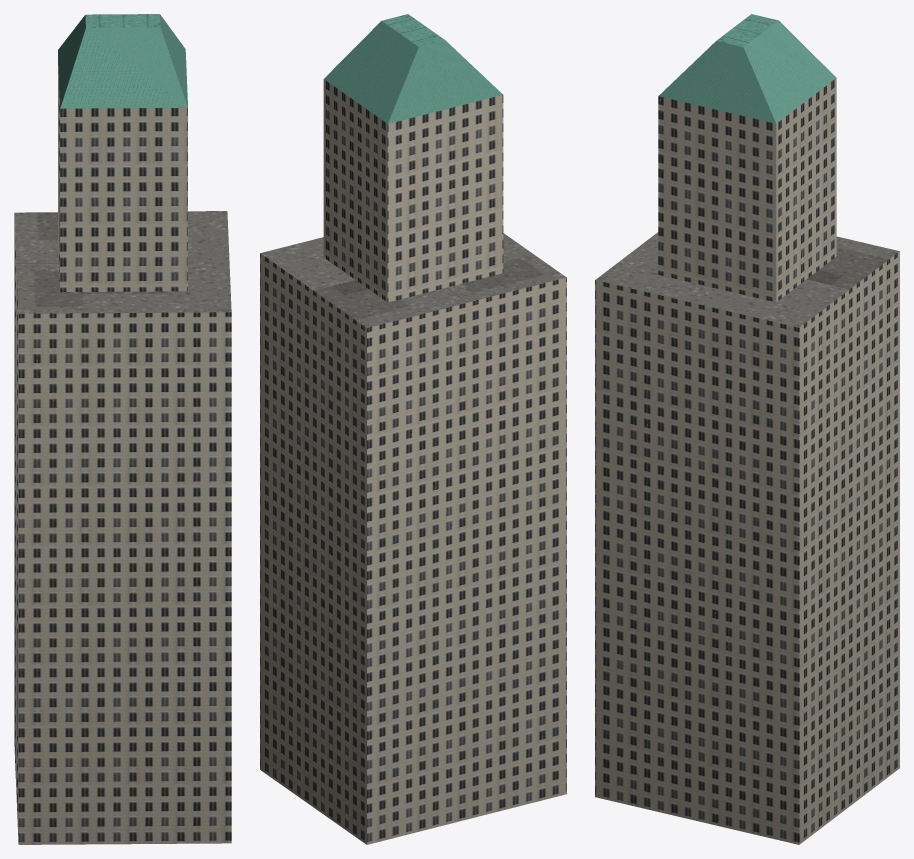
Rendered from pierre.glb.
3 renders of one model, left to right at view 1: azimuth 30°, elevation 25°; view 2: azimuth 150°, elevation 25°; view 3: azimuth 270°, elevation 25°, orthographic. The views are drawn at different scales.
Parts seen in each view (by area): view 1: pierre; view 2: pierre; view 3: pierre.
Part boxes in pixels (x1=…): pierre: x1=14, y1=14, x2=231, y2=844; pierre: x1=260, y1=14, x2=566, y2=844; pierre: x1=595, y1=14, x2=899, y2=844.
Bounding box in the file's own units: 56.8 × 160 × 58.75.
6 materials, 6 textured.
